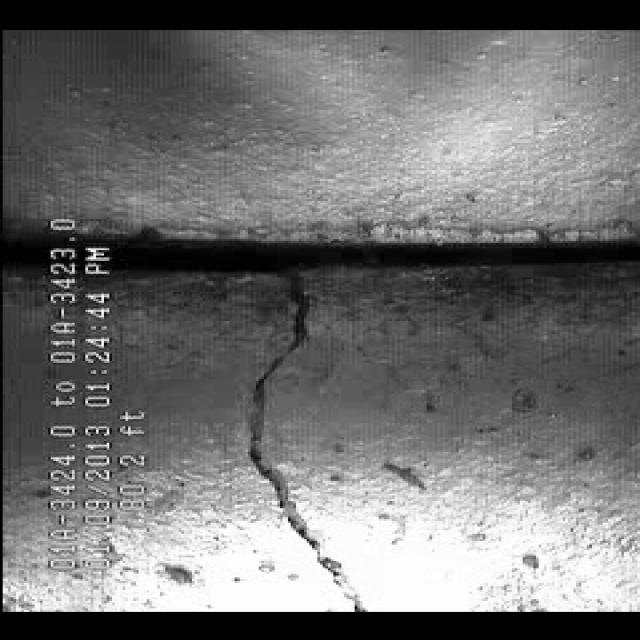Crack: (199, 286, 370, 579)
